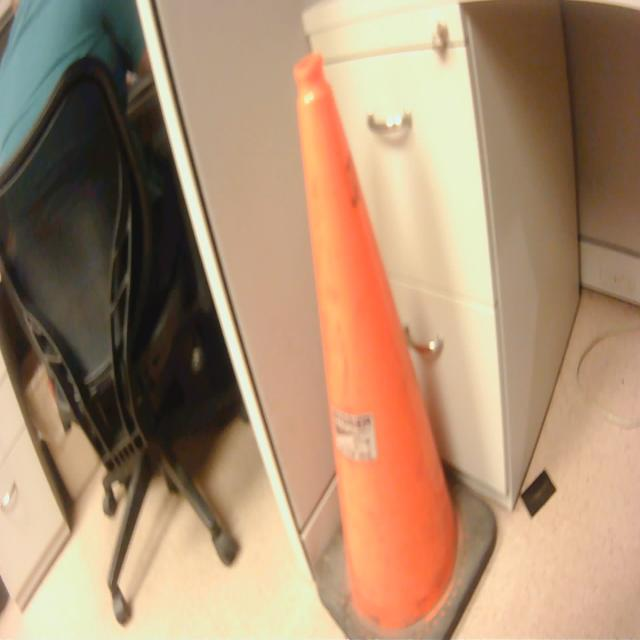traffic cone: (289, 47, 505, 640)
